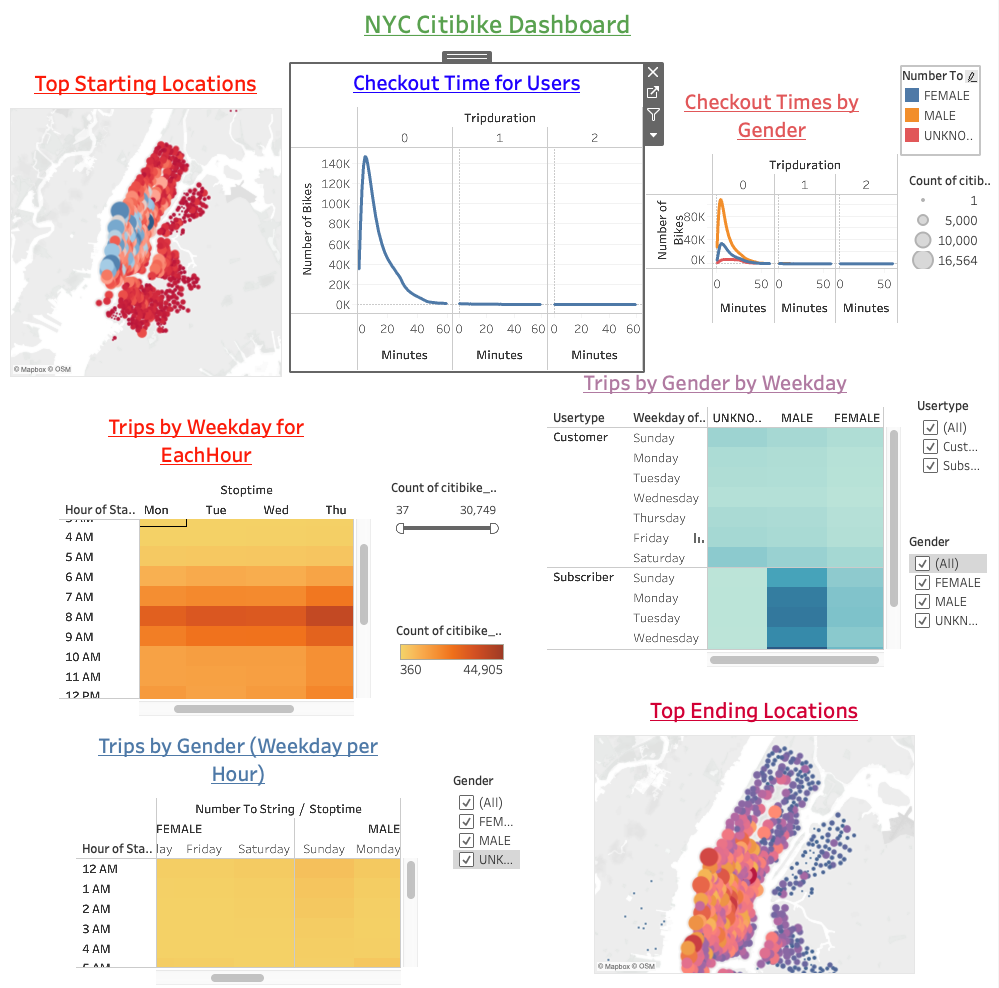

The page's visual inventory and layout, read from the dashboard file:
{"tool":"tableau","page":{"name":"NYC Citibike Dashboard","canvas":[1000,1000],"ordinal":0},"visuals":[{"type":"worksheet","box":[0,0,1000,1000]},{"type":"worksheet","param":"vert","box":[8,8,984,984]},{"type":"worksheet","box":[8,8,984,33]},{"type":"worksheet","box":[8,41,984,951]},{"type":"worksheet","title":"Top Starting Locations","mark":"Automatic","rows":["start station latitude"],"cols":["start station longitude"],"box":[12,65,272,313]},{"type":"worksheet","title":"Checkout Time for Users","mark":"Automatic","rows":["citibike_201908.csv_B3002F55F0BC4038AAD88DCECCB56930"],"cols":["tripduration","tripduration"],"box":[293,65,352,307]},{"type":"worksheet","title":"Checkout Times by Gender","mark":"Automatic","rows":["citibike_201908.csv_B3002F55F0BC4038AAD88DCECCB56930"],"cols":["tripduration","tripduration"],"param":"[federated.13ckcmp1j3ih3q138y7ju0rnmj1h].[none:Calculation_6393493032678821888:n","box":[904,68,77,87]},{"type":"worksheet","title":"Checkout Times by Gender","mark":"Automatic","rows":["citibike_201908.csv_B3002F55F0BC4038AAD88DCECCB56930"],"cols":["tripduration","tripduration"],"box":[648,84,252,241]},{"type":"worksheet","title":"Top Starting Locations","mark":"Automatic","rows":["start station latitude"],"cols":["start station longitude"],"param":"[federated.13ckcmp1j3ih3q138y7ju0rnmj1h].[__tableau_internal_object_id__].[cnt:c","box":[911,173,83,121]},{"type":"worksheet","title":"Trips by Gender by Weekday","mark":"Automatic","rows":["usertype","starttime"],"cols":["Calculation_6393493032678821888"],"box":[549,365,354,303]},{"type":"worksheet","title":"Trips by Gender by Weekday","mark":"Automatic","rows":["usertype","starttime"],"cols":["Calculation_6393493032678821888"],"param":"[federated.13ckcmp1j3ih3q138y7ju0rnmj1h].[none:usertype:nk]","box":[919,398,71,90]},{"type":"worksheet","title":"Trips by Weekday for EachHour","mark":"Automatic","rows":["starttime"],"cols":["stoptime"],"box":[61,409,312,308]},{"type":"worksheet","title":"Trips by Gender (Weekday per Hour)","mark":"Automatic","rows":["starttime"],"cols":["Calculation_6393493032678821888","stoptime"],"param":"[federated.13ckcmp1j3ih3q138y7ju0rnmj1h].[__tableau_internal_object_id__].[cnt:c","box":[393,480,112,59]},{"type":"worksheet","title":"Trips by Gender by Weekday","mark":"Automatic","rows":["usertype","starttime"],"cols":["Calculation_6393493032678821888"],"param":"[federated.13ckcmp1j3ih3q138y7ju0rnmj1h].[none:Calculation_6393493032678821888:n","box":[911,534,78,118]},{"type":"worksheet","title":"Trips by Weekday for EachHour","mark":"Automatic","rows":["starttime"],"cols":["stoptime"],"param":"[federated.13ckcmp1j3ih3q138y7ju0rnmj1h].[__tableau_internal_object_id__].[cnt:c","box":[398,623,112,57]},{"type":"worksheet","title":"Top Ending Locations","mark":"Automatic","rows":["end station latitude"],"cols":["end station longitude"],"box":[596,692,321,283]},{"type":"worksheet","title":"Trips by Gender (Weekday per Hour)","mark":"Automatic","rows":["starttime"],"cols":["Calculation_6393493032678821888","stoptime"],"box":[78,728,342,258]},{"type":"worksheet","title":"Checkout Times by Gender","mark":"Automatic","rows":["citibike_201908.csv_B3002F55F0BC4038AAD88DCECCB56930"],"cols":["tripduration","tripduration"],"param":"[federated.13ckcmp1j3ih3q138y7ju0rnmj1h].[none:Calculation_6393493032678821888:n","box":[455,773,67,135]}]}

Visuals, with their boxes in screenshot pixels (x1, y1, x2, y2), scaled from the page's 1000x1000 canvas onto the 999x988 screenshot:
worksheet: locate(0, 0, 998, 987)
worksheet: locate(8, 8, 991, 980)
worksheet: locate(8, 8, 991, 41)
worksheet: locate(8, 41, 991, 980)
"Top Starting Locations" worksheet: locate(12, 64, 284, 373)
"Checkout Time for Users" worksheet: locate(293, 64, 644, 368)
"Checkout Times by Gender" worksheet: locate(903, 67, 980, 153)
"Checkout Times by Gender" worksheet: locate(647, 83, 899, 321)
"Top Starting Locations" worksheet: locate(910, 171, 993, 290)
"Trips by Gender by Weekday" worksheet: locate(548, 361, 902, 660)
"Trips by Gender by Weekday" worksheet: locate(918, 393, 989, 482)
"Trips by Weekday for EachHour" worksheet: locate(61, 404, 373, 708)
"Trips by Gender (Weekday per Hour)" worksheet: locate(393, 474, 504, 533)
"Trips by Gender by Weekday" worksheet: locate(910, 528, 988, 644)
"Trips by Weekday for EachHour" worksheet: locate(398, 616, 509, 672)
"Top Ending Locations" worksheet: locate(595, 684, 916, 963)
"Trips by Gender (Weekday per Hour)" worksheet: locate(78, 719, 420, 974)
"Checkout Times by Gender" worksheet: locate(455, 764, 521, 897)
